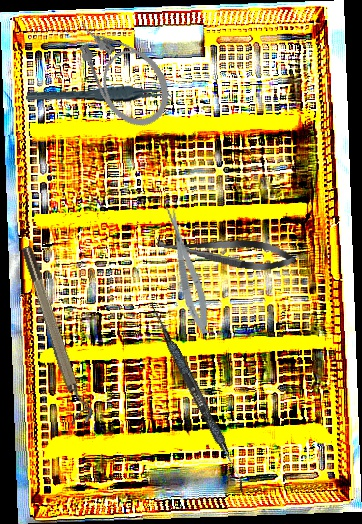Cannula: (63, 1, 183, 138)
Fixation Ring: (18, 242, 96, 427)
Micro Scissor: (161, 202, 215, 337), (153, 229, 298, 275)
Spatula Surgical: (143, 301, 253, 493)
Tissue Forceps: (25, 74, 174, 117)
